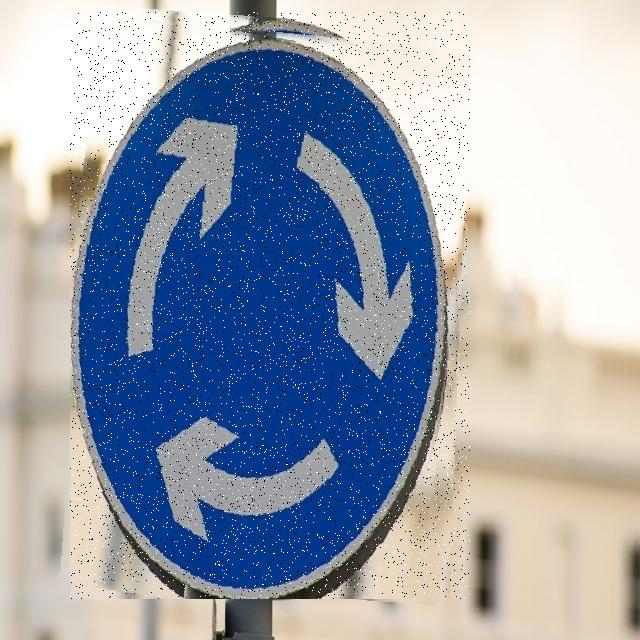roundabout: (70, 12, 470, 599)
